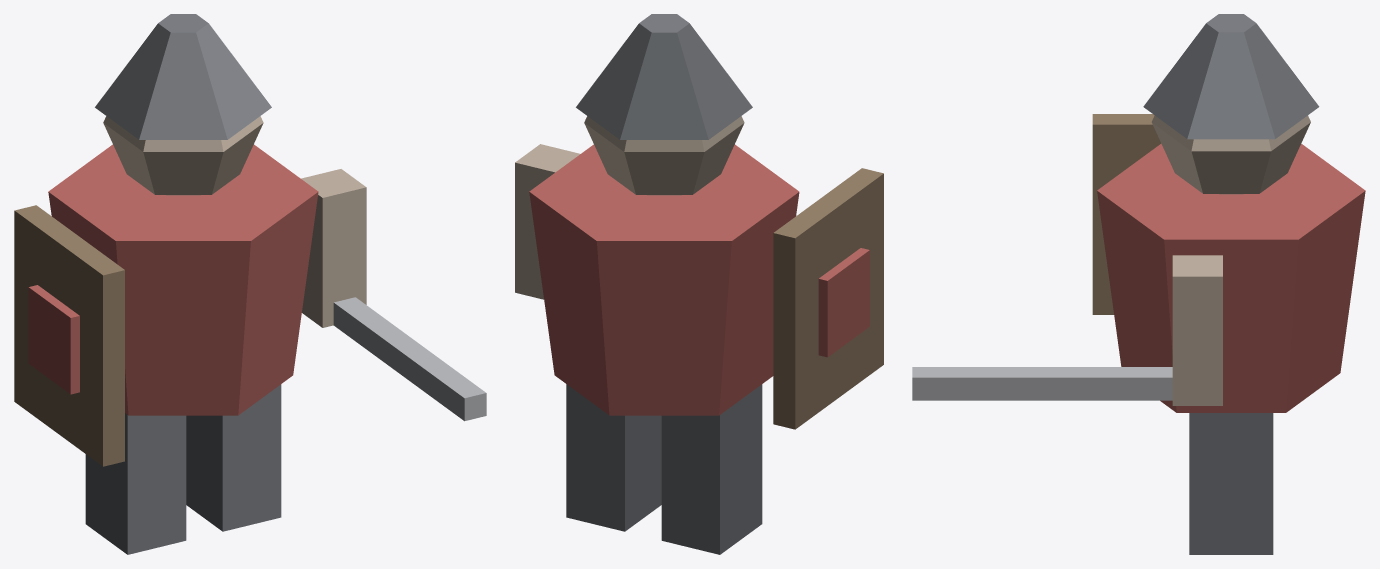
The model's file is minion_melee_red.glb.
3 views of the same model, side by side, from view 1: azimuth 30°, elevation 25°; view 2: azimuth 150°, elevation 25°; view 3: azimuth 270°, elevation 25° (orthographic).
Size of the model in its own units: 0.855 by 1.3 by 1.08.
